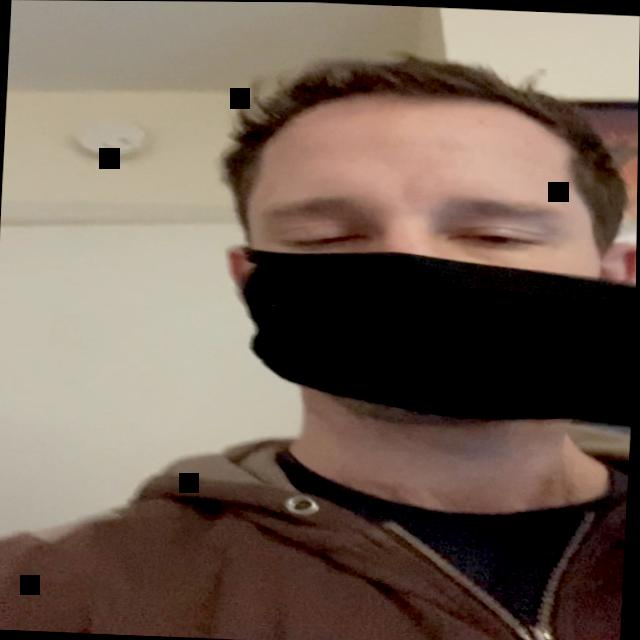NO-Mask: (206, 92, 639, 454)
